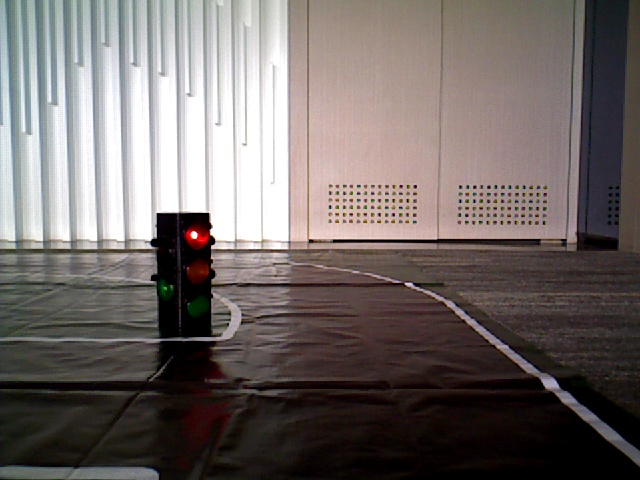red: (173, 216, 212, 312)
